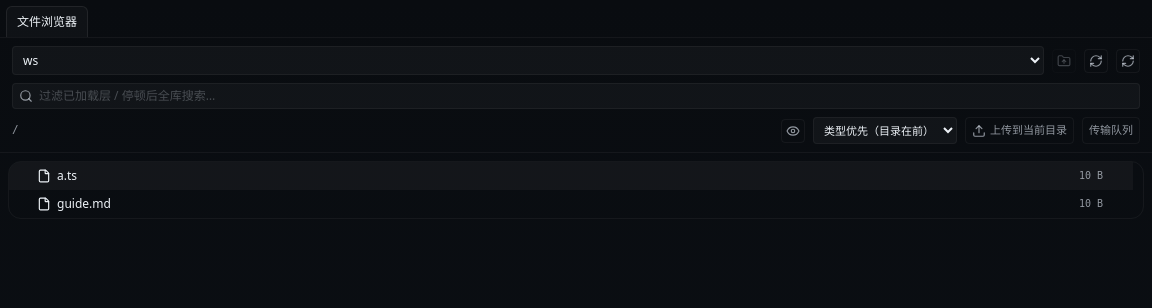
Test: FileBrowserSurface：Markdown 预览与 md/文本 切换 › 切到「文本」显示原始 Markdown 源码，切回「Markdown」恢复渲染
The image size is (1152, 308).
Step 1. Click the button "guide.md 10 B" → (84, 204), box [37, 194, 1103, 214]
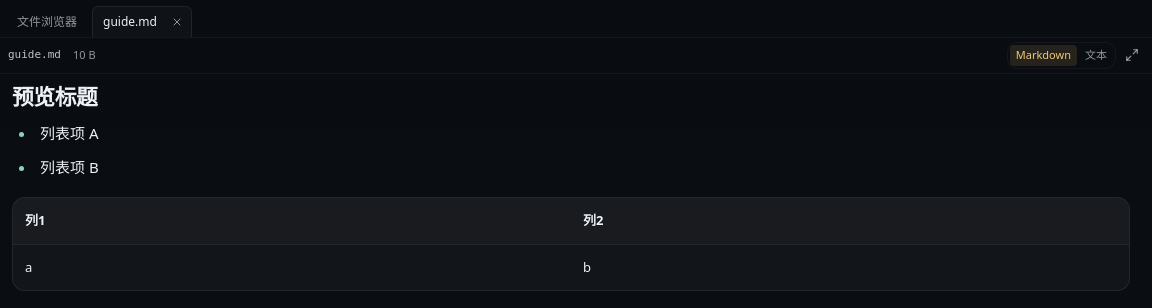
Step 2. Click the button "文本" → (1096, 55), box [1079, 45, 1113, 66]
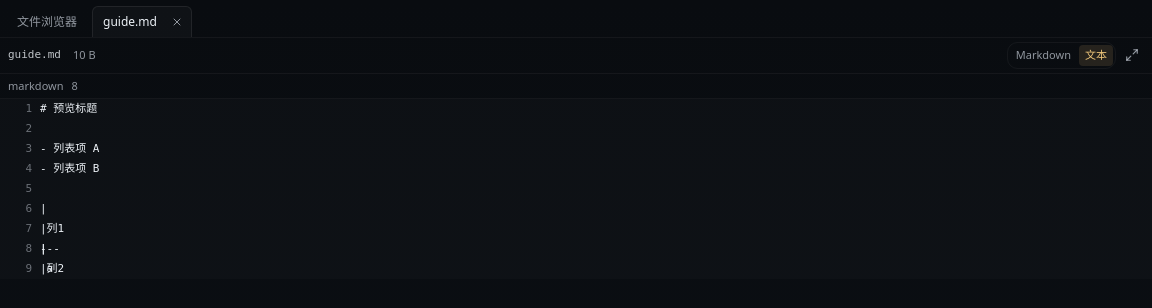
Check: the element with test id "text-viewer" shows "# 预览标题", box [0, 99, 1151, 279]
Step 3. Click the button "Markdown" → (1043, 55), box [1010, 45, 1077, 66]
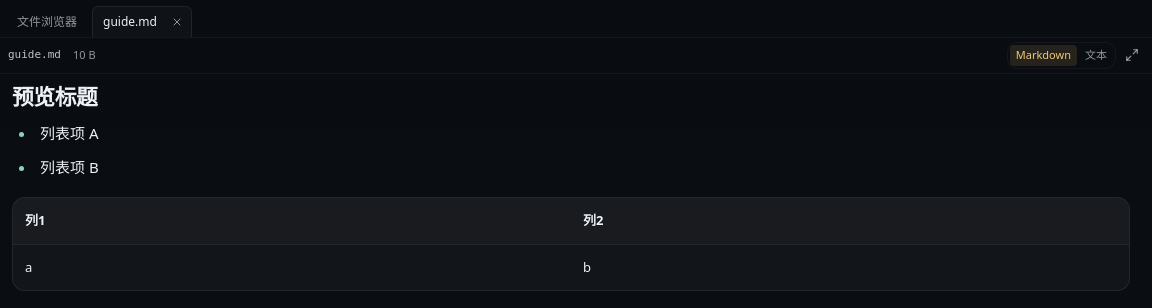
Check: the heading "预览标题" is shown, box [12, 82, 97, 110]
Check: the element with test id "text-viewer" is gone
